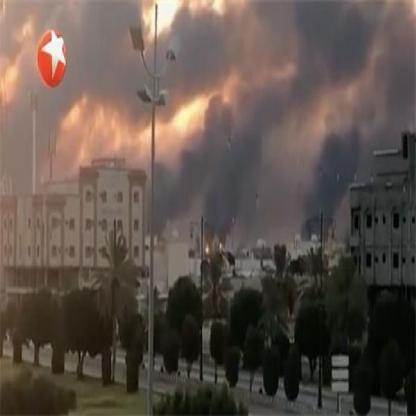smoke: (253, 0, 363, 179), (168, 118, 242, 218)
